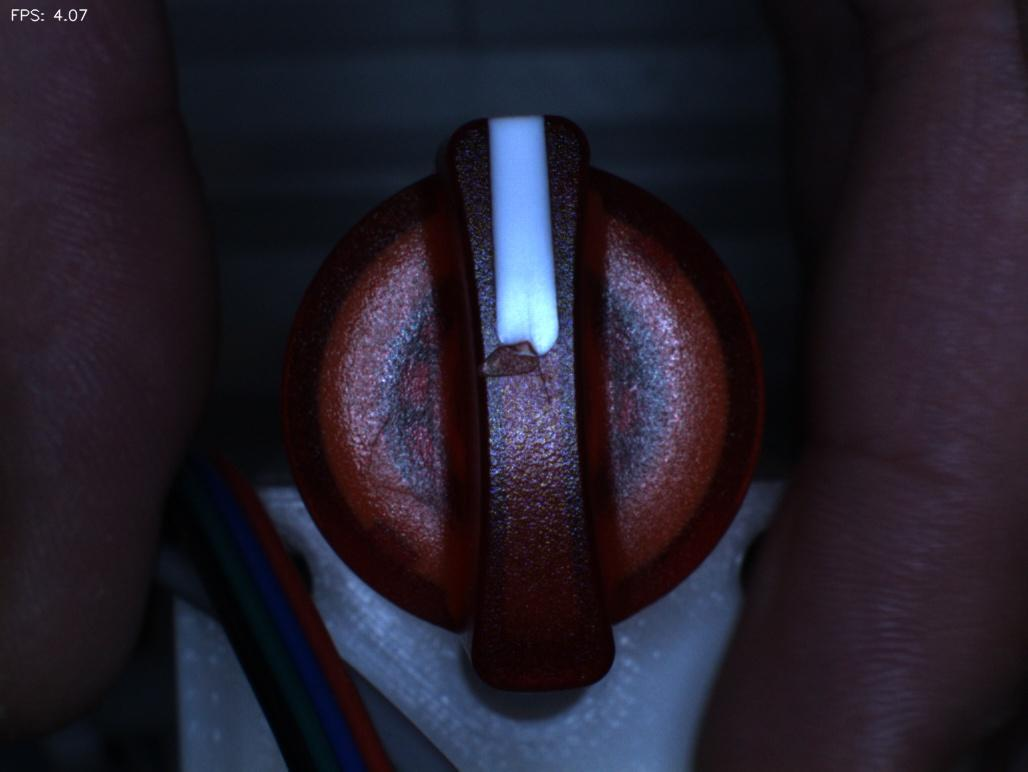Choc: (456, 313, 564, 419)
